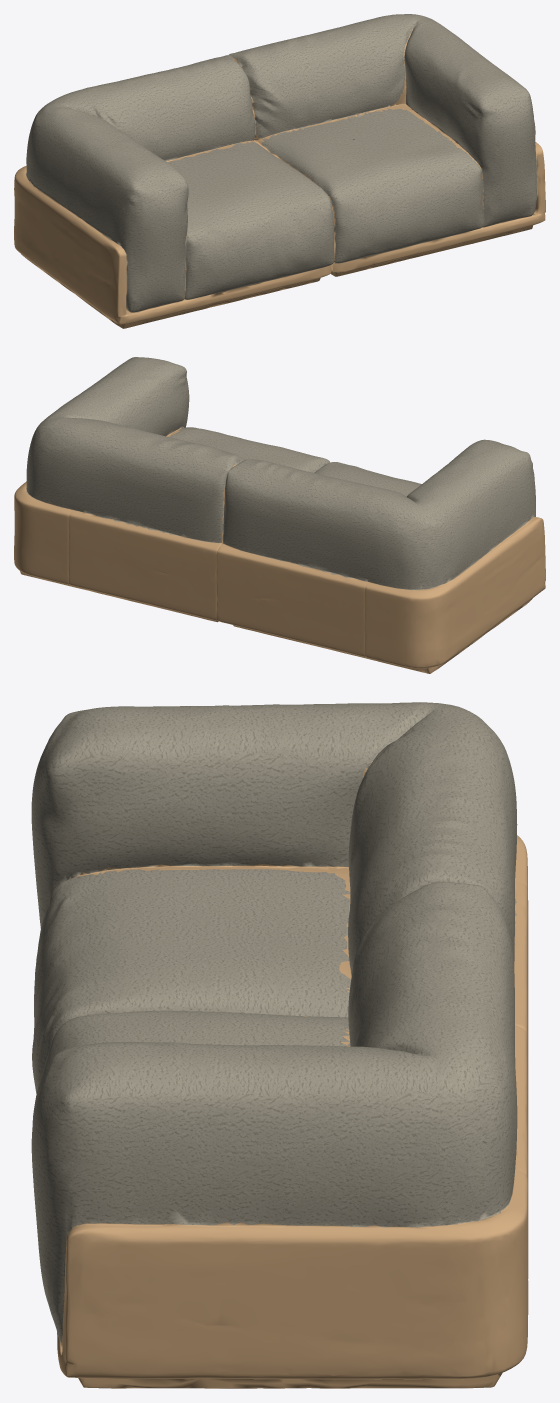
3 renders of one model, top to bottom at view 1: azimuth 30°, elevation 25°; view 2: azimuth 150°, elevation 25°; view 3: azimuth 270°, elevation 25°, orthographic. The views are drawn at different scales.
Parts seen in each view (by area): view 1: tripo_node_00c1d632-359e-4e29-8c5f-c706d574217e; view 2: tripo_node_00c1d632-359e-4e29-8c5f-c706d574217e; view 3: tripo_node_00c1d632-359e-4e29-8c5f-c706d574217e.
Boxes of the visible parts, x1,y1,x2,y2 form: tripo_node_00c1d632-359e-4e29-8c5f-c706d574217e: (14,14,545,328); tripo_node_00c1d632-359e-4e29-8c5f-c706d574217e: (14,357,545,673); tripo_node_00c1d632-359e-4e29-8c5f-c706d574217e: (31,702,528,1388).
Size of the model in its own units: 2 by 0.7 by 1.
Materials: 2 (1 with a texture image).
